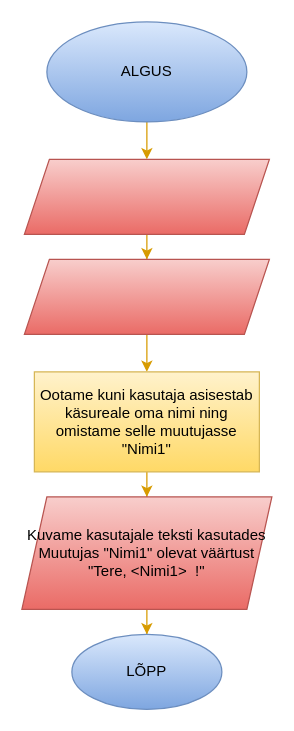
Image size: 294x731. Some labels were removed from this diagram. Here are the shapes that lost their labels. From the top down, the centre of each, then its label:
the point at 146,196: Kuvame kasutajale teksti "Mis on teie nimi ?"
the point at 146,296: Tekitame uue sõne tüüpi muutuja "Nimi1" ja jätame selle tühjaks
